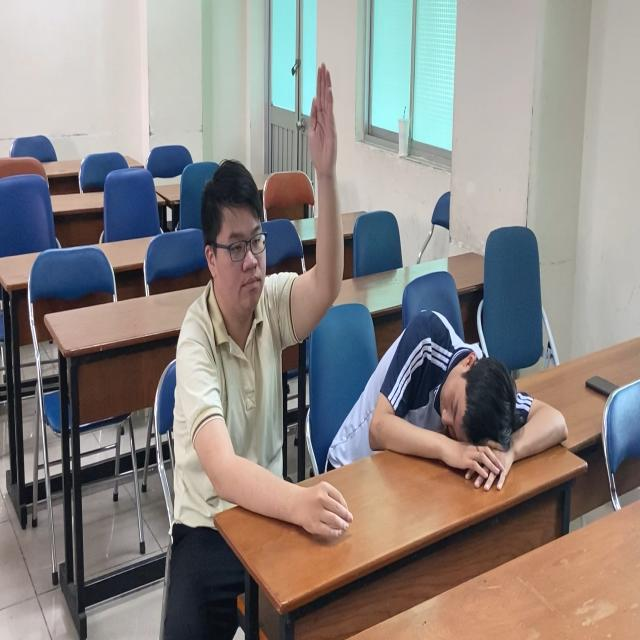raise_hand: (166, 49, 346, 562)
sleep: (355, 300, 574, 482)
